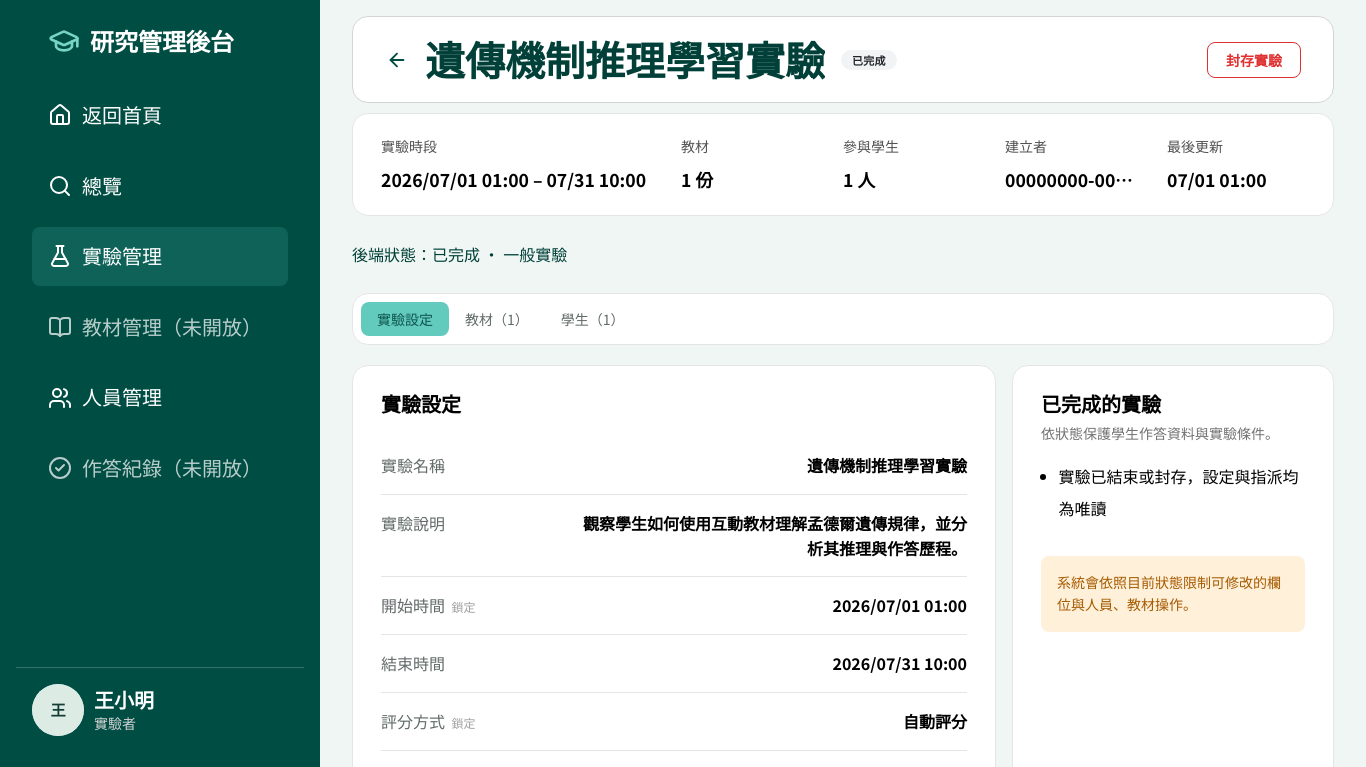
Scenario: experiment archive UI › provides COMPLETED archive and retains read-only detail
This screenshot has width=1366, height=767.
What coordinates should you click on to do the following:
click the button "封存實驗"
I would click on:
 (1254, 60)
Its box is [1207,42,1301,78].
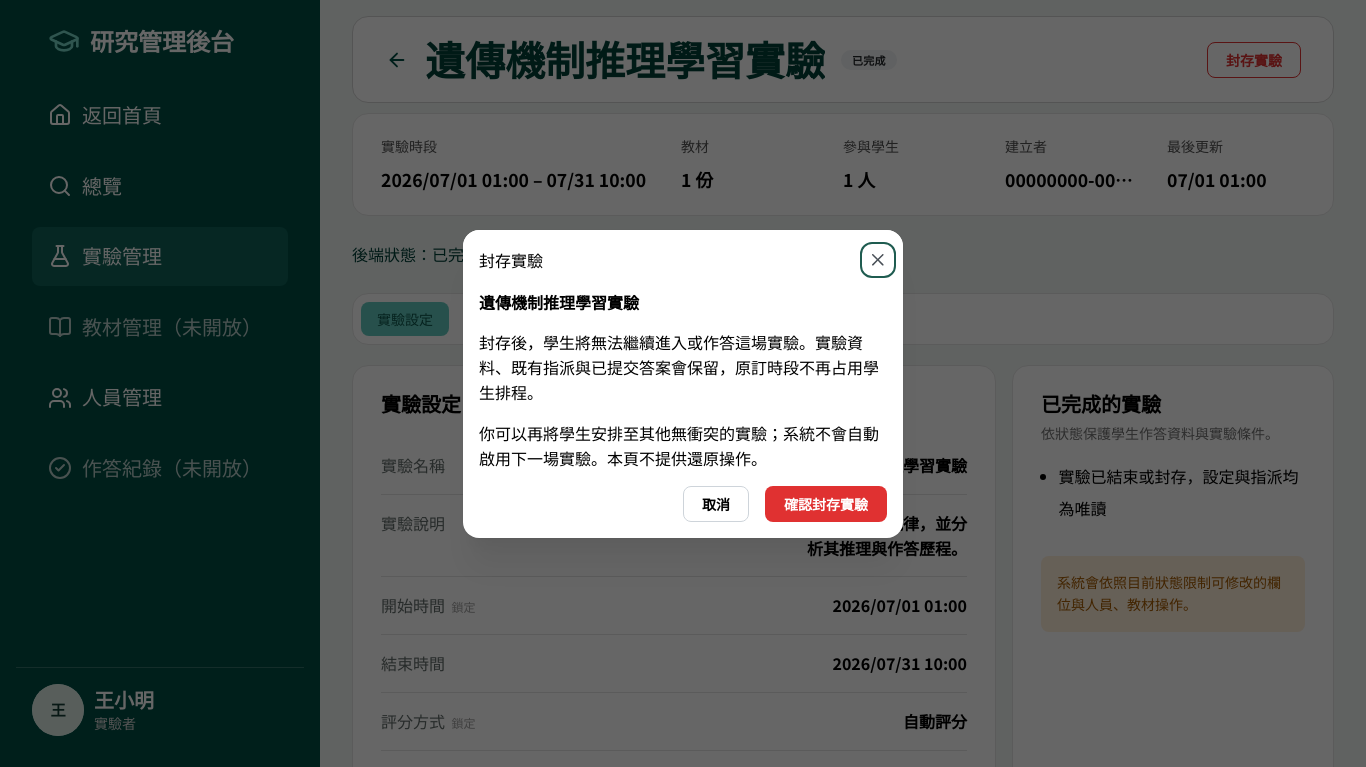
Expected: the text "遺傳機制推理學習實驗" is shown, [479,290,639,314]
Expected: the text "封存後，學生將無法繼續進入或作答這場實驗。實驗資料、既有指派與已提交答案會保留，原訂時段不再占用學生排程。" is shown, [479,330,887,405]
What coordinates should you click on to do the following:
click the 3rd button
I would click on:
 (826, 504)
Its box is [765,486,887,522].
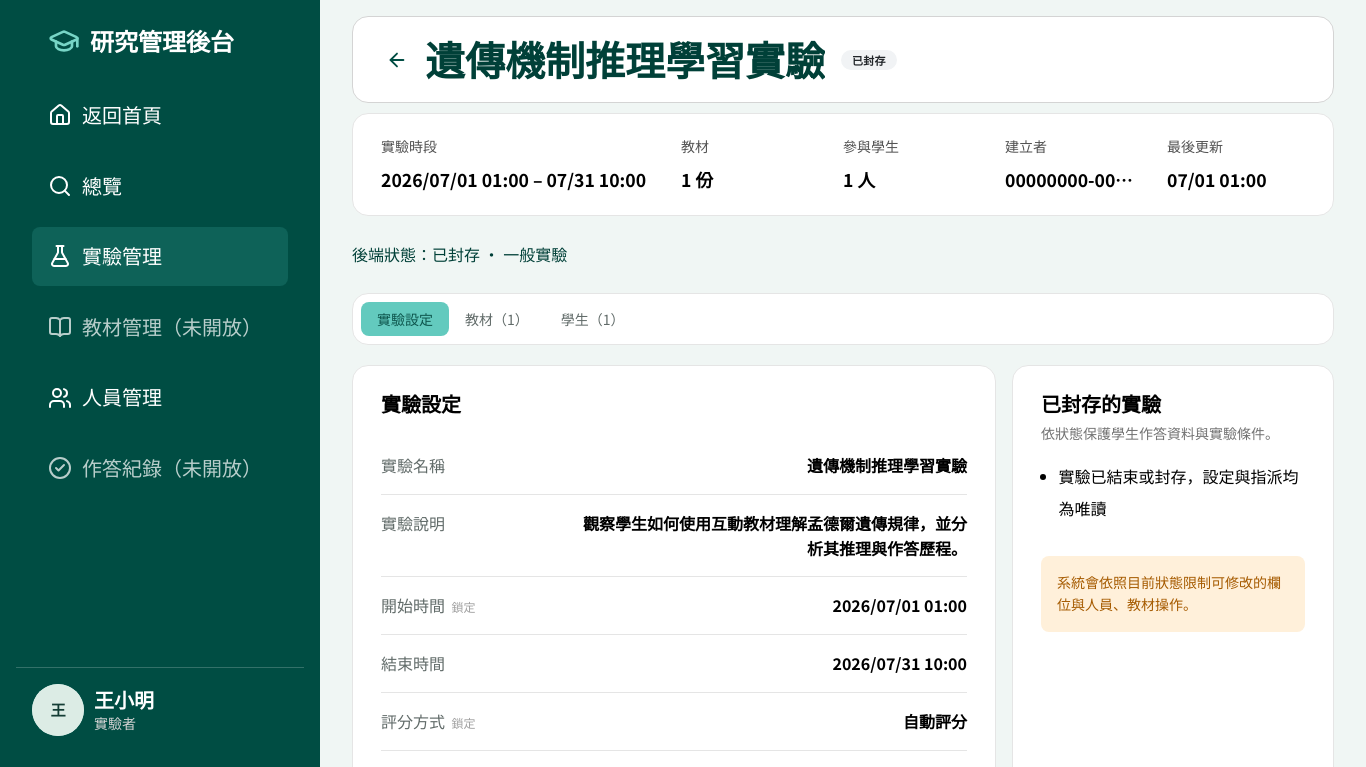
Expected: the list item "實驗已結束或封存，設定與指派均為唯讀" is shown, [1059,460,1305,524]
Expected: the dialog is gone
Expected: the button "封存實驗" is gone
